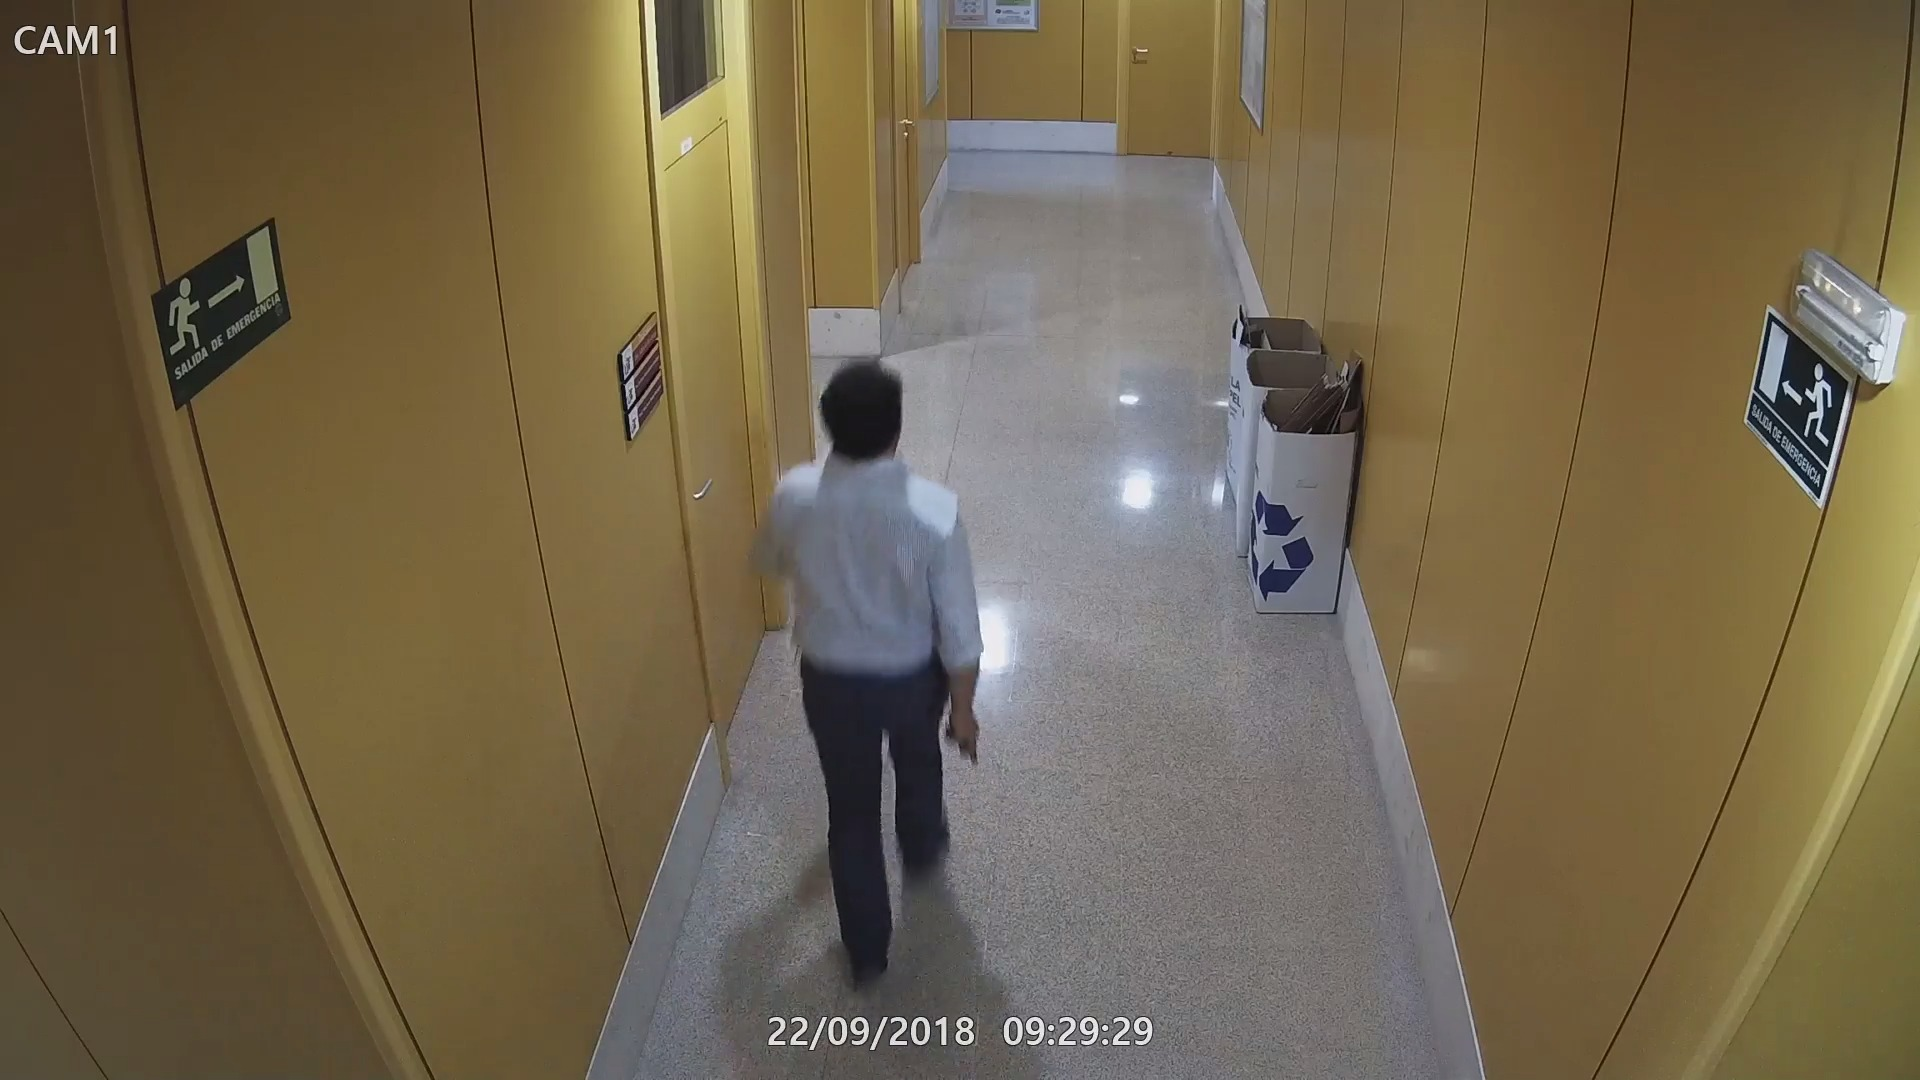Handgun: (942, 716, 992, 771)
